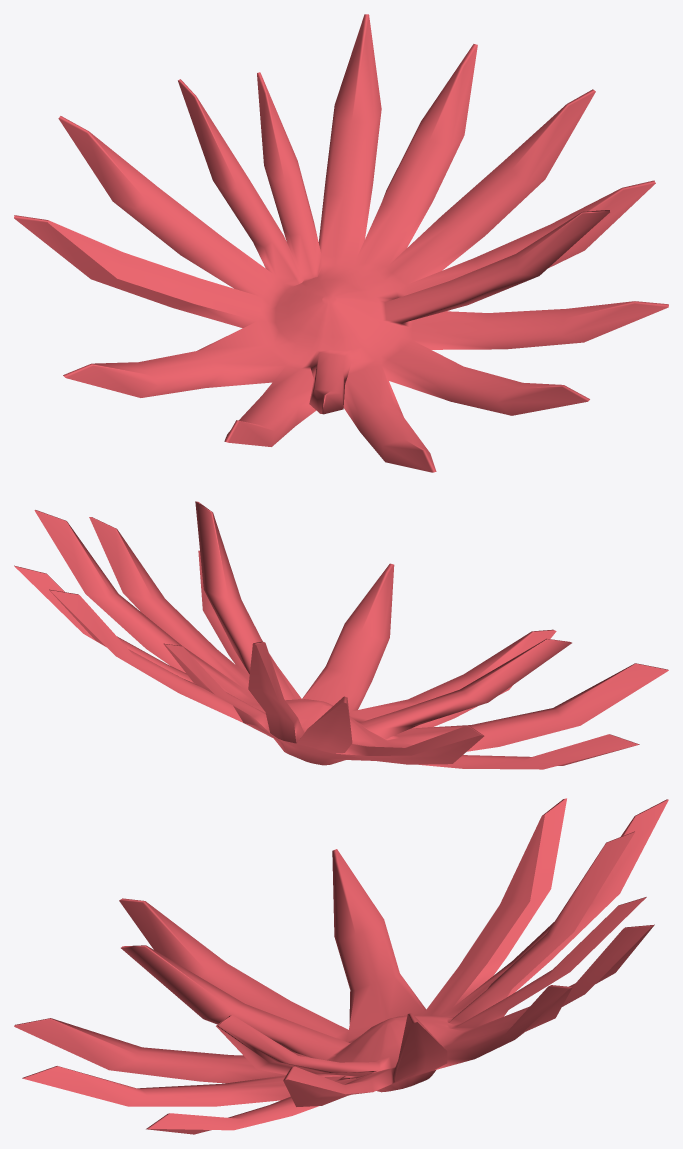
The model's file is FlowerSmallMiddle.fbx.
3 renders of one model, top to bottom at view 1: azimuth 30°, elevation 25°; view 2: azimuth 150°, elevation 25°; view 3: azimuth 270°, elevation 25°, orthographic. The views are drawn at different scales.
Visible parts, largest first — view 1: FlowerSmllMiddle; view 2: FlowerSmllMiddle; view 3: FlowerSmllMiddle.
Part boxes in pixels (left/top/right/bottom): FlowerSmllMiddle: left=14, top=14, right=668, bottom=472; FlowerSmllMiddle: left=14, top=501, right=668, bottom=769; FlowerSmllMiddle: left=14, top=798, right=668, bottom=1134.
Bounding box in the file's own units: 7.71 × 2.88 × 6.86.
